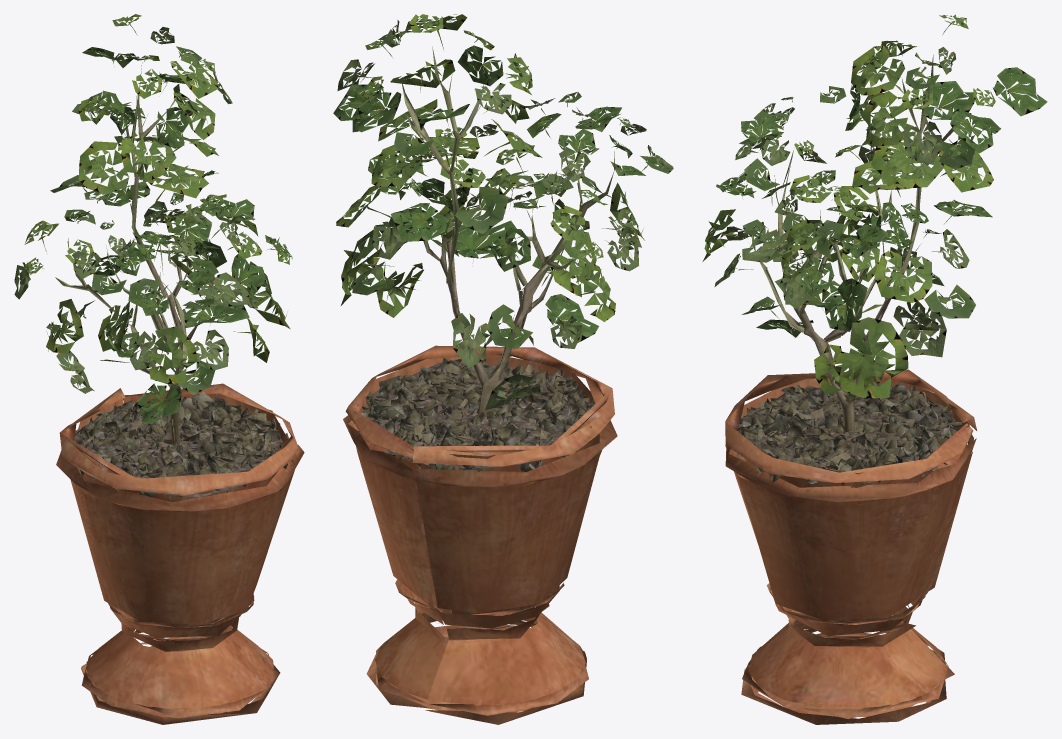
File: potted_plant_01.glb
3 views of the same model, side by side, from view 1: azimuth 30°, elevation 25°; view 2: azimuth 150°, elevation 25°; view 3: azimuth 270°, elevation 25° (orthographic). The views are drawn at different scales.
Parts seen in each view (by area): view 1: potted_plant_01_pot, potted_plant_01_leaves, potted_plant_01_pebbles, potted_plant_01_stem; view 2: potted_plant_01_pot, potted_plant_01_leaves, potted_plant_01_pebbles, potted_plant_01_stem; view 3: potted_plant_01_pot, potted_plant_01_leaves, potted_plant_01_pebbles, potted_plant_01_stem.
Boxes of the visible parts, box(x1,y1,x2,y2) form: potted_plant_01_pot: box(56, 383, 304, 724); potted_plant_01_leaves: box(14, 14, 292, 423); potted_plant_01_pebbles: box(74, 392, 293, 500); potted_plant_01_stem: box(55, 59, 215, 444); potted_plant_01_pot: box(343, 345, 617, 724); potted_plant_01_leaves: box(333, 14, 673, 410); potted_plant_01_pebbles: box(358, 357, 595, 472); potted_plant_01_stem: box(401, 46, 614, 416); potted_plant_01_pot: box(725, 369, 976, 724); potted_plant_01_leaves: box(702, 14, 1047, 398); potted_plant_01_pebbles: box(737, 380, 967, 487); potted_plant_01_stem: box(752, 55, 965, 431).
Size of the model in its own units: 0.587 by 1.33 by 0.6305.
2 materials, 2 textured.
